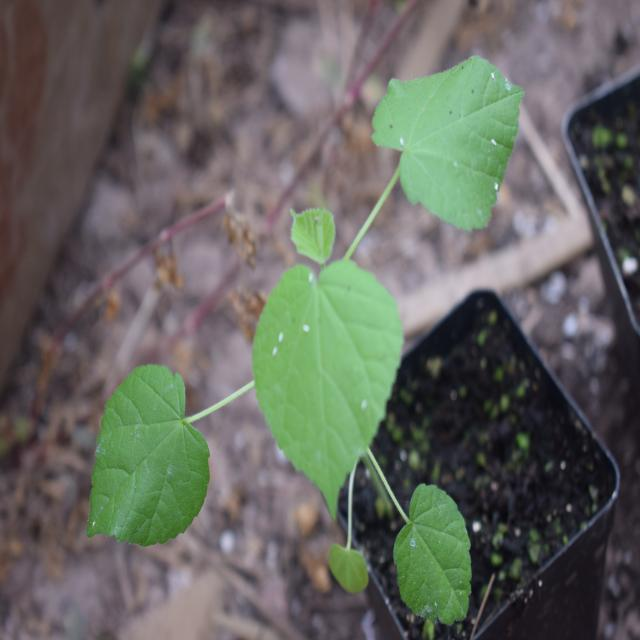abutilon theophrasti: (95, 64, 518, 594)
